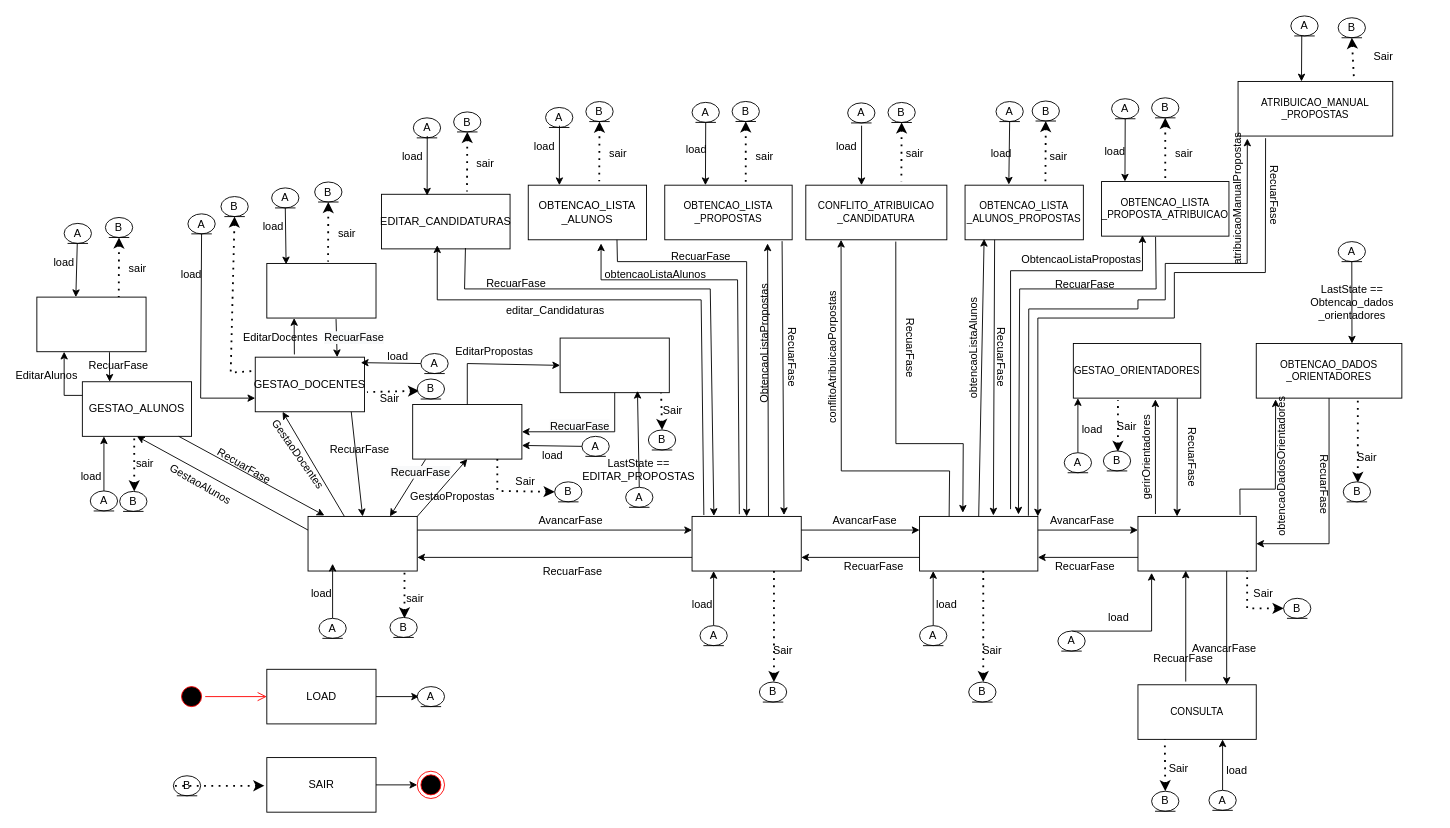
This 1450x828 diagram has some shape labels left out. The box of each missing label's shape, as (x1, y1, x2, y2) in pixels:
ATRIBUICAO _ORIENTADORES: (1137, 516, 1256, 571)
ATRIBUICAO_PROPOSTA: (919, 516, 1038, 571)
CONFIG_OPTIONS: (307, 516, 417, 571)
EDITAR_ALUNOS: (36, 296, 146, 352)
EDITAR_DOCENTES: (266, 263, 376, 318)
EDITAR_PROPOSTAS: (559, 337, 669, 393)
GESTAO_PROPOSTA: (412, 404, 522, 459)
OPCOES_CANDIDATURA: (691, 516, 801, 571)
